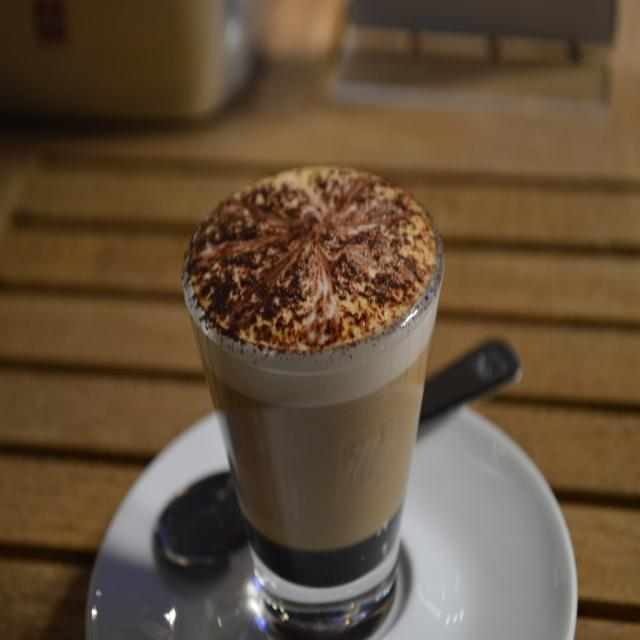Coffee: (183, 150, 443, 640)
